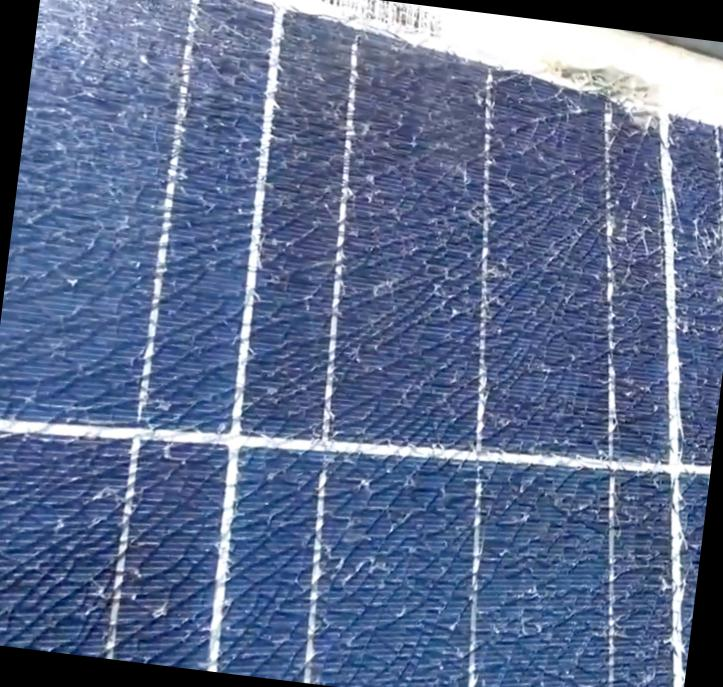Crack: (420, 45, 722, 373)
